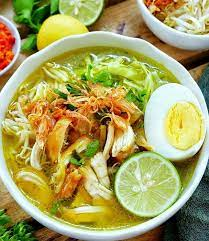soto: (3, 23, 207, 241)
